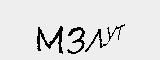З: (66, 25, 86, 55)
Л: (83, 27, 103, 54)
М: (34, 25, 65, 55)
Т: (114, 21, 127, 46)
У: (100, 22, 117, 49)
